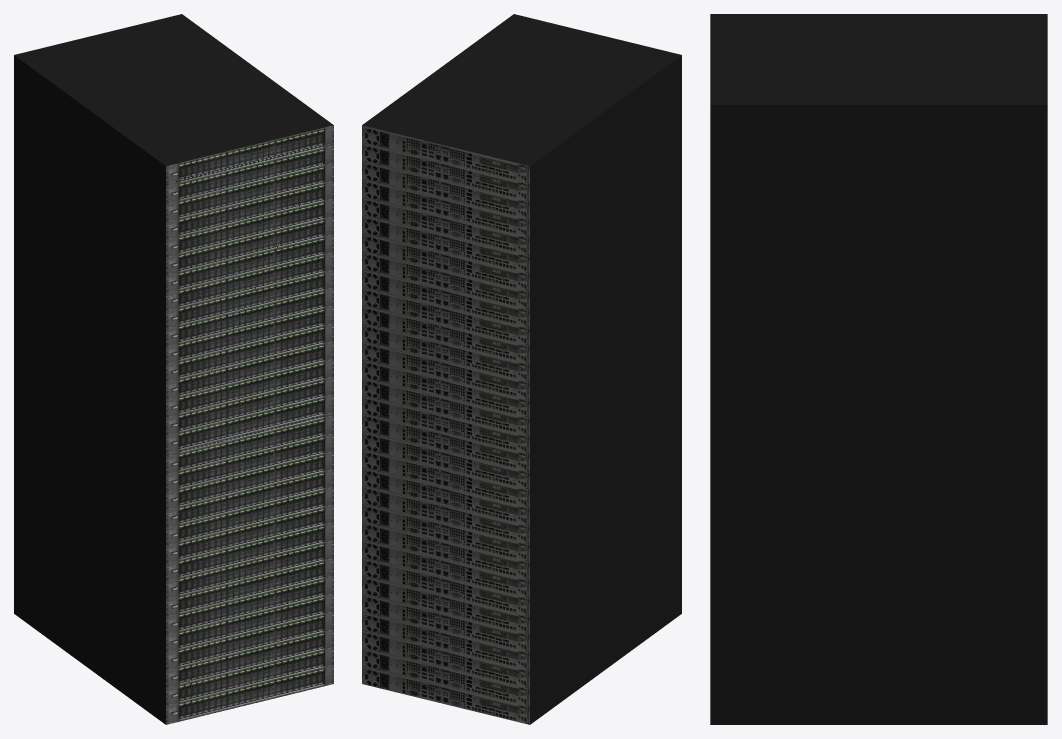
The model's file is ADR31.fbx.
The picture shows the model from 3 angles, left to right: view 1: azimuth 30°, elevation 25°; view 2: azimuth 150°, elevation 25°; view 3: azimuth 270°, elevation 25°; orthographic projection. The views are drawn at different scales.
Visible parts, largest first — view 1: ADR31; view 2: ADR31; view 3: ADR31.
Boxes of the visible parts, box(x1,y1,x2,y2) form: ADR31: box(14, 14, 333, 724); ADR31: box(362, 14, 681, 724); ADR31: box(710, 14, 1047, 724).
Size of the model in its own units: 434 by 1380 by 680.
3 materials, 2 textured.
